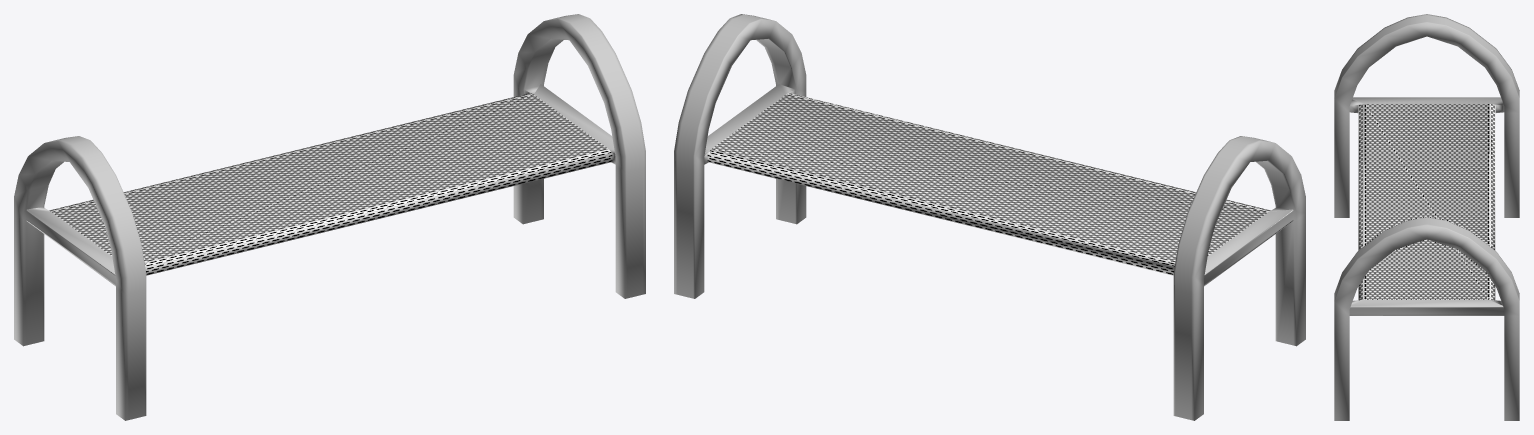
File: PubChair-Type-0.obj
3 renders of one model, left to right at view 1: azimuth 30°, elevation 25°; view 2: azimuth 150°, elevation 25°; view 3: azimuth 270°, elevation 25°, orthographic. The views are drawn at different scales.
Visible parts, largest first — view 1: PubChair-Type-0; view 2: PubChair-Type-0; view 3: PubChair-Type-0.
Part boxes in pixels (x1=…): PubChair-Type-0: x1=14, y1=14, x2=645, y2=420; PubChair-Type-0: x1=674, y1=14, x2=1305, y2=420; PubChair-Type-0: x1=1334, y1=14, x2=1519, y2=420.
Size of the model in its own units: 3.24 by 1.4 by 1.2.
